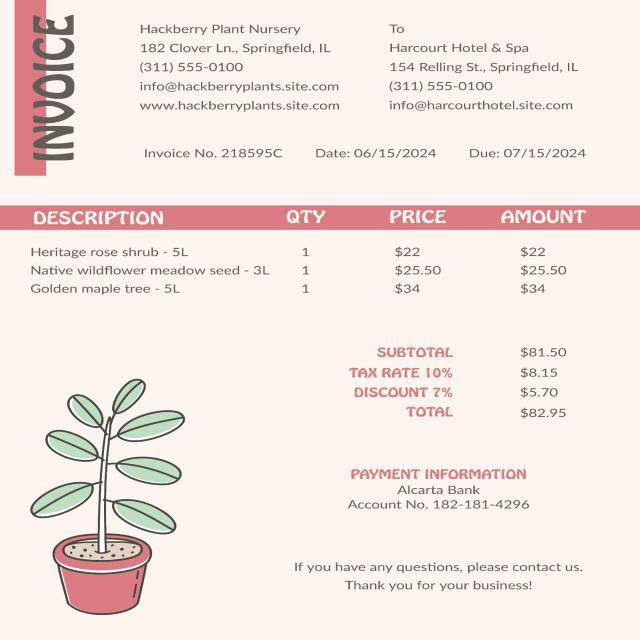paragraph: (331, 330, 586, 436), (132, 11, 346, 118), (370, 9, 589, 113), (289, 542, 593, 607), (8, 9, 93, 182), (334, 458, 543, 524), (130, 134, 291, 166), (304, 134, 441, 168), (456, 134, 591, 166)
table: (2, 205, 633, 314)
